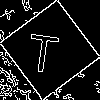T: (25, 25, 62, 74)
